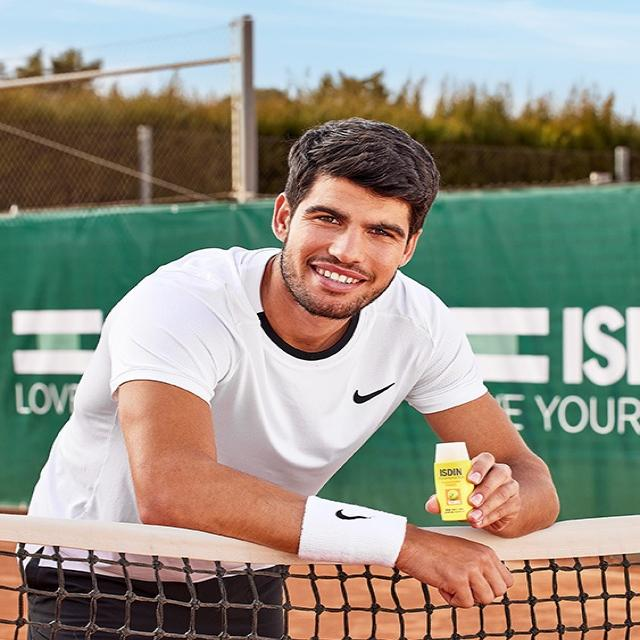nike: (336, 380, 402, 409), (328, 503, 373, 528)
